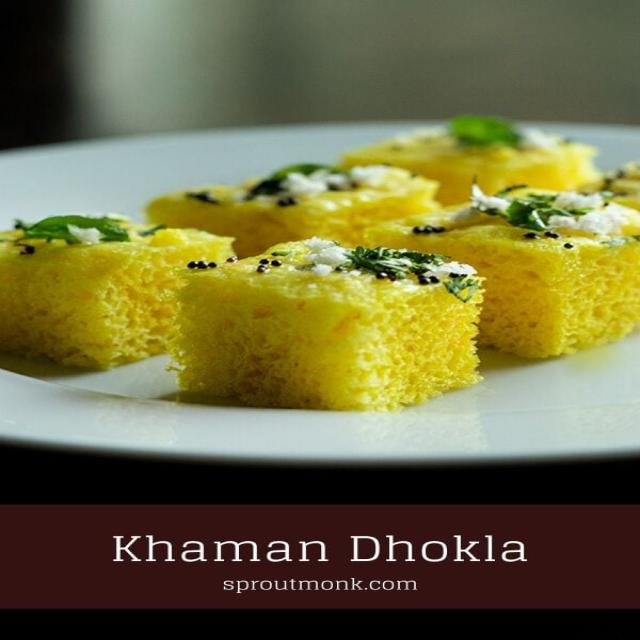dhokla: (14, 112, 629, 424)
